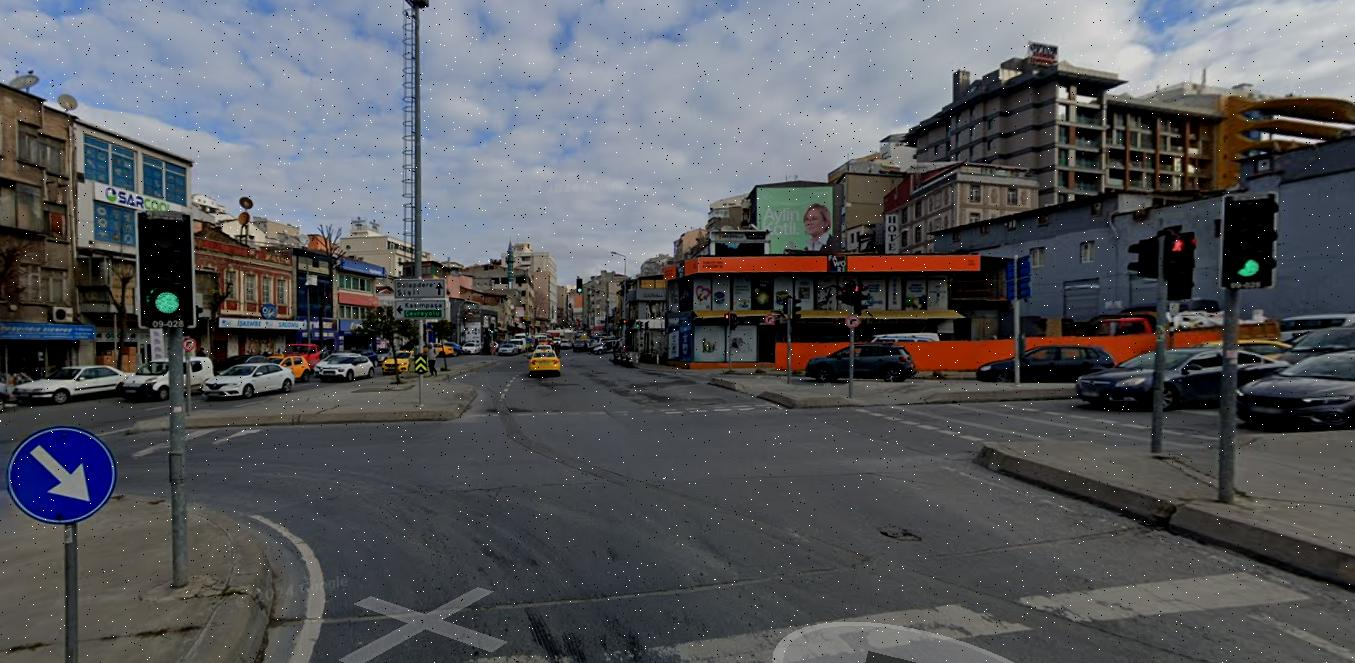greenlight: (139, 210, 195, 334), (1224, 196, 1277, 291)
